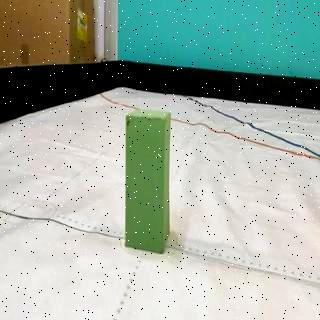greenbox: (125, 112, 172, 255)
